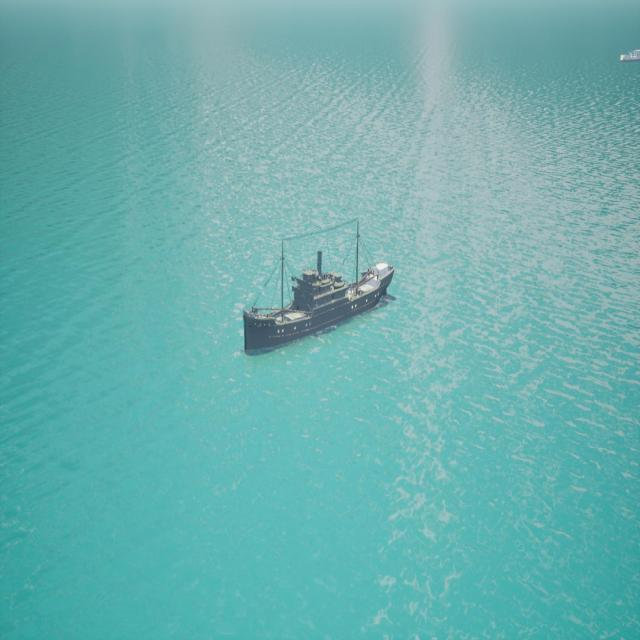fishing ship: (243, 259, 397, 357)
